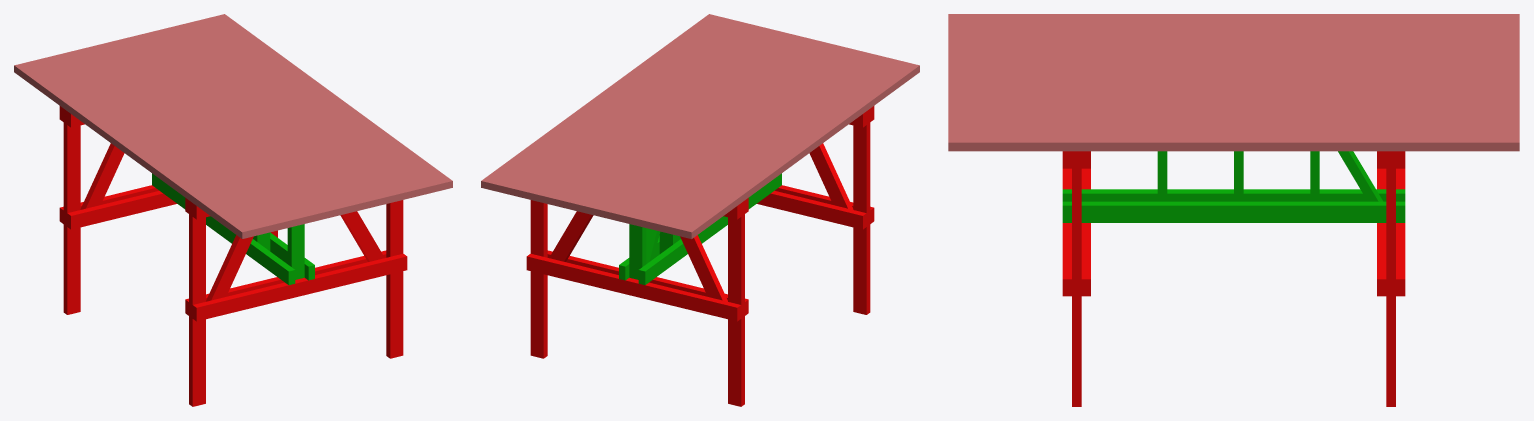
The model's file is result.glb.
3 views of the same model, side by side, from view 1: azimuth 30°, elevation 25°; view 2: azimuth 150°, elevation 25°; view 3: azimuth 270°, elevation 25° (orthographic). The views are drawn at different scales.
Visible parts, largest first — view 1: b6425438-5ea2-429d-b236-6a3e76765db7__Box, 13123a53-177c-4761-b5b8-b0a619034602__sideH, 8e2398f9-e6f0-41b3-9832-8433611a0286__undefined, 804cbd35-9735-47da-ae50-5729e59acae2__undefined, 0b91bbf3-0b25-4084-afb2-388fa2e24686__undefined, 0c37ecd9-2998-4d58-9c0d-b9d70dd9cf07__undefined, 18ded621-6d93-4205-9b4f-a895554497f2__undefined, 30e6978c-5c8d-443f-aa3a-0034f33a4baf__undefined, 4d7e7958-2420-4131-9447-932dd51a9e22__undefined, 1389a48e-ae1e-4be8-a1b6-e06273d525b5__undefined, 47f28897-6784-4351-a377-bb9d43947630__undefined, fce94673-3882-4139-96ca-3d4829eec248__undefined (+17 smaller); view 2: b6425438-5ea2-429d-b236-6a3e76765db7__Box, 68beb062-a814-4c9c-9988-3efac1da62c4__undefined, a6cab633-f597-48a9-bb00-b96cc0773a80__sideV, 804cbd35-9735-47da-ae50-5729e59acae2__undefined, 0b91bbf3-0b25-4084-afb2-388fa2e24686__undefined, 0c37ecd9-2998-4d58-9c0d-b9d70dd9cf07__undefined, 18ded621-6d93-4205-9b4f-a895554497f2__undefined, 30e6978c-5c8d-443f-aa3a-0034f33a4baf__undefined, 4d7e7958-2420-4131-9447-932dd51a9e22__undefined, 1389a48e-ae1e-4be8-a1b6-e06273d525b5__undefined, 47f28897-6784-4351-a377-bb9d43947630__undefined, fce94673-3882-4139-96ca-3d4829eec248__undefined (+16 smaller); view 3: 8c6e6b2c-3fe3-45ee-a9e1-2eed693dd7f7__undefined, 1b500ea5-0f7f-45f3-8e3d-33b67842de3a__strutH, 804cbd35-9735-47da-ae50-5729e59acae2__undefined, 92a1754c-6111-40a7-9831-1bafbf733ad9__undefined, fce94673-3882-4139-96ca-3d4829eec248__undefined, 30e6978c-5c8d-443f-aa3a-0034f33a4baf__undefined, 0b91bbf3-0b25-4084-afb2-388fa2e24686__undefined, 4d7e7958-2420-4131-9447-932dd51a9e22__undefined, fe330b61-1238-480f-bdcc-2b9667a915d2__undefined, 8e07eb63-9daa-481e-90db-f6c99548c5bb__undefined, c761f604-8c83-4715-aceb-a535b4c6ff53__undefined, 0c37ecd9-2998-4d58-9c0d-b9d70dd9cf07__undefined (+16 smaller).
Part boxes in pixels (x1=…): b6425438-5ea2-429d-b236-6a3e76765db7__Box: x1=14, y1=62, x2=255, y2=238; 13123a53-177c-4761-b5b8-b0a619034602__sideH: x1=192, y1=253, x2=407, y2=321; 8e2398f9-e6f0-41b3-9832-8433611a0286__undefined: x1=63, y1=109, x2=80, y2=314; 804cbd35-9735-47da-ae50-5729e59acae2__undefined: x1=54, y1=52, x2=294, y2=229; 0b91bbf3-0b25-4084-afb2-388fa2e24686__undefined: x1=107, y1=39, x2=347, y2=216; 0c37ecd9-2998-4d58-9c0d-b9d70dd9cf07__undefined: x1=172, y1=23, x2=413, y2=200; 18ded621-6d93-4205-9b4f-a895554497f2__undefined: x1=186, y1=20, x2=426, y2=197; 30e6978c-5c8d-443f-aa3a-0034f33a4baf__undefined: x1=93, y1=43, x2=334, y2=219; 4d7e7958-2420-4131-9447-932dd51a9e22__undefined: x1=120, y1=36, x2=360, y2=213; 1389a48e-ae1e-4be8-a1b6-e06273d525b5__undefined: x1=27, y1=59, x2=268, y2=235; 47f28897-6784-4351-a377-bb9d43947630__undefined: x1=41, y1=56, x2=281, y2=232; fce94673-3882-4139-96ca-3d4829eec248__undefined: x1=80, y1=46, x2=321, y2=222; b6425438-5ea2-429d-b236-6a3e76765db7__Box: x1=678, y1=62, x2=919, y2=238; 68beb062-a814-4c9c-9988-3efac1da62c4__undefined: x1=526, y1=253, x2=741, y2=321; a6cab633-f597-48a9-bb00-b96cc0773a80__sideV: x1=853, y1=109, x2=870, y2=314; 804cbd35-9735-47da-ae50-5729e59acae2__undefined: x1=639, y1=52, x2=879, y2=229; 0b91bbf3-0b25-4084-afb2-388fa2e24686__undefined: x1=586, y1=39, x2=826, y2=216; 0c37ecd9-2998-4d58-9c0d-b9d70dd9cf07__undefined: x1=520, y1=23, x2=761, y2=200; 18ded621-6d93-4205-9b4f-a895554497f2__undefined: x1=507, y1=20, x2=747, y2=197; 30e6978c-5c8d-443f-aa3a-0034f33a4baf__undefined: x1=599, y1=43, x2=840, y2=219; 4d7e7958-2420-4131-9447-932dd51a9e22__undefined: x1=573, y1=36, x2=813, y2=213; 1389a48e-ae1e-4be8-a1b6-e06273d525b5__undefined: x1=665, y1=59, x2=906, y2=235; 47f28897-6784-4351-a377-bb9d43947630__undefined: x1=652, y1=56, x2=892, y2=232; fce94673-3882-4139-96ca-3d4829eec248__undefined: x1=612, y1=46, x2=853, y2=222; 8c6e6b2c-3fe3-45ee-a9e1-2eed693dd7f7__undefined: x1=948, y1=134, x2=1519, y2=151; 1b500ea5-0f7f-45f3-8e3d-33b67842de3a__strutH: x1=1062, y1=201, x2=1405, y2=222; 804cbd35-9735-47da-ae50-5729e59acae2__undefined: x1=948, y1=38, x2=1519, y2=46; 92a1754c-6111-40a7-9831-1bafbf733ad9__undefined: x1=948, y1=46, x2=1519, y2=54; fce94673-3882-4139-96ca-3d4829eec248__undefined: x1=948, y1=54, x2=1519, y2=62; 30e6978c-5c8d-443f-aa3a-0034f33a4baf__undefined: x1=948, y1=62, x2=1519, y2=70; 0b91bbf3-0b25-4084-afb2-388fa2e24686__undefined: x1=948, y1=70, x2=1519, y2=78; 4d7e7958-2420-4131-9447-932dd51a9e22__undefined: x1=948, y1=78, x2=1519, y2=86; fe330b61-1238-480f-bdcc-2b9667a915d2__undefined: x1=948, y1=86, x2=1519, y2=94; 8e07eb63-9daa-481e-90db-f6c99548c5bb__undefined: x1=948, y1=94, x2=1519, y2=102; c761f604-8c83-4715-aceb-a535b4c6ff53__undefined: x1=948, y1=102, x2=1519, y2=110; 0c37ecd9-2998-4d58-9c0d-b9d70dd9cf07__undefined: x1=948, y1=110, x2=1519, y2=118.
Size of the model in its own units: 800 by 765 by 1500.
